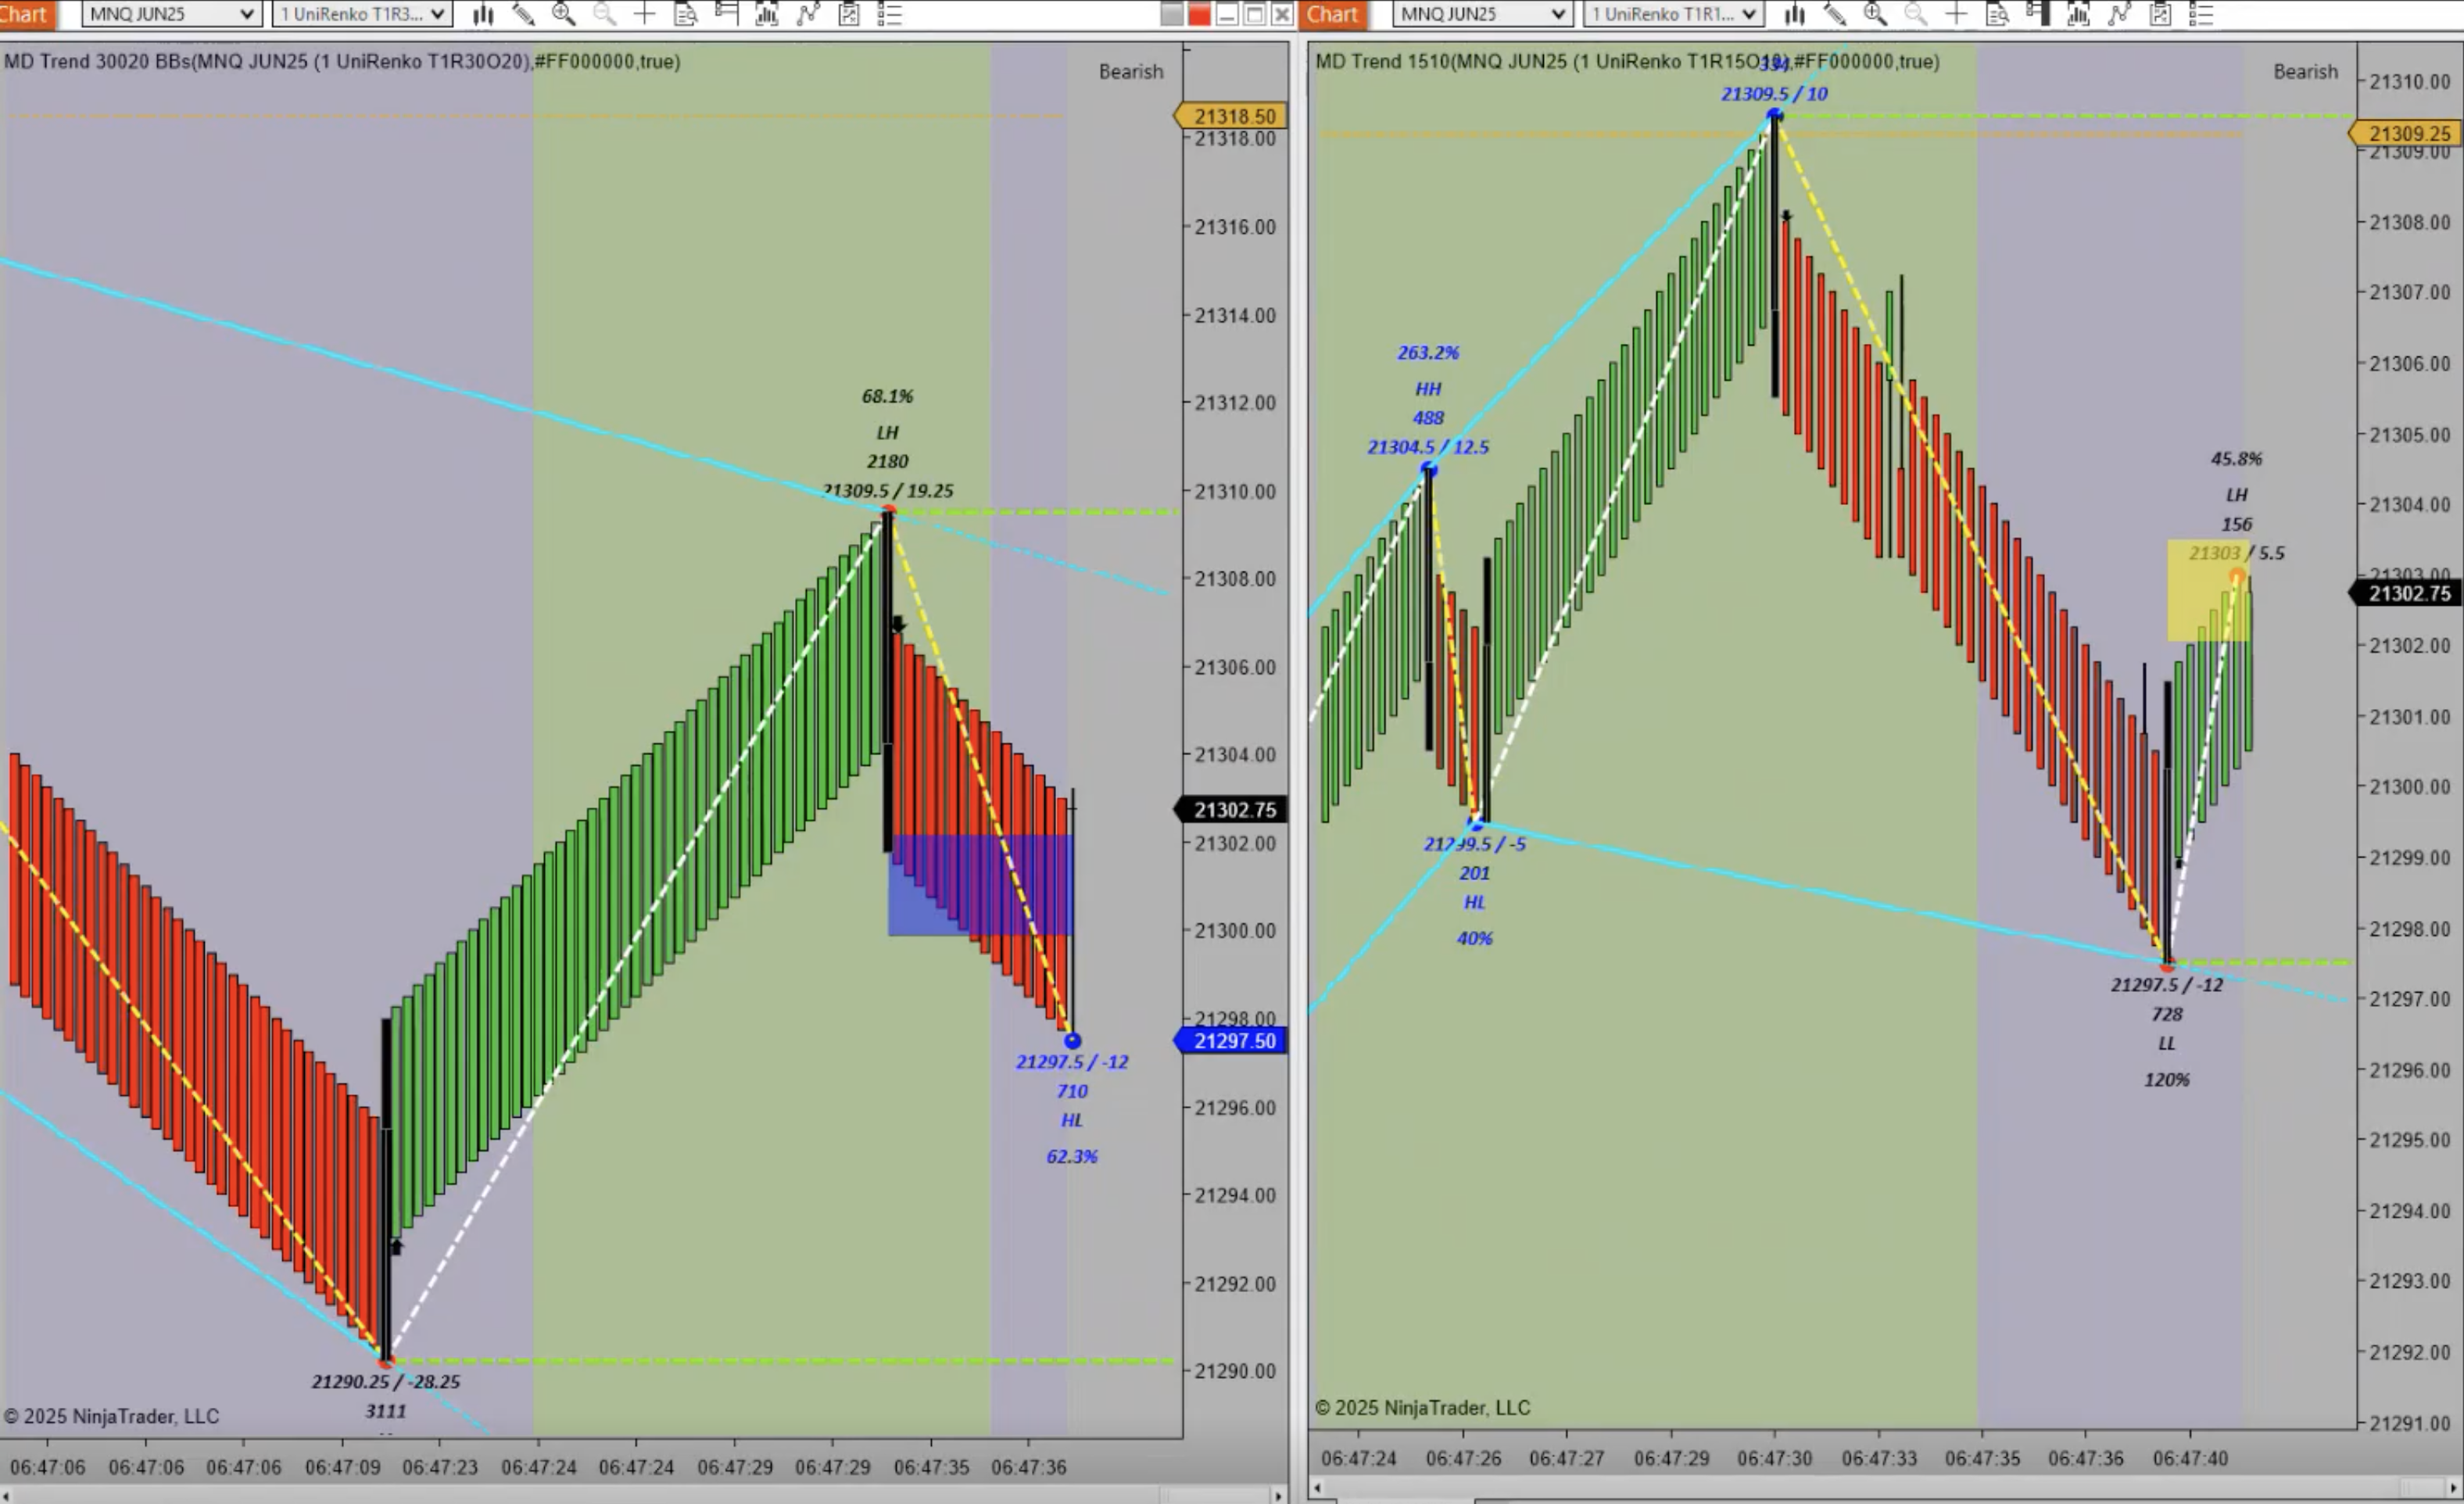candle: (882, 507, 901, 862), (382, 1017, 396, 1363), (1771, 118, 1786, 406), (1427, 464, 1438, 762), (2163, 681, 2174, 973), (1484, 556, 1492, 827)
